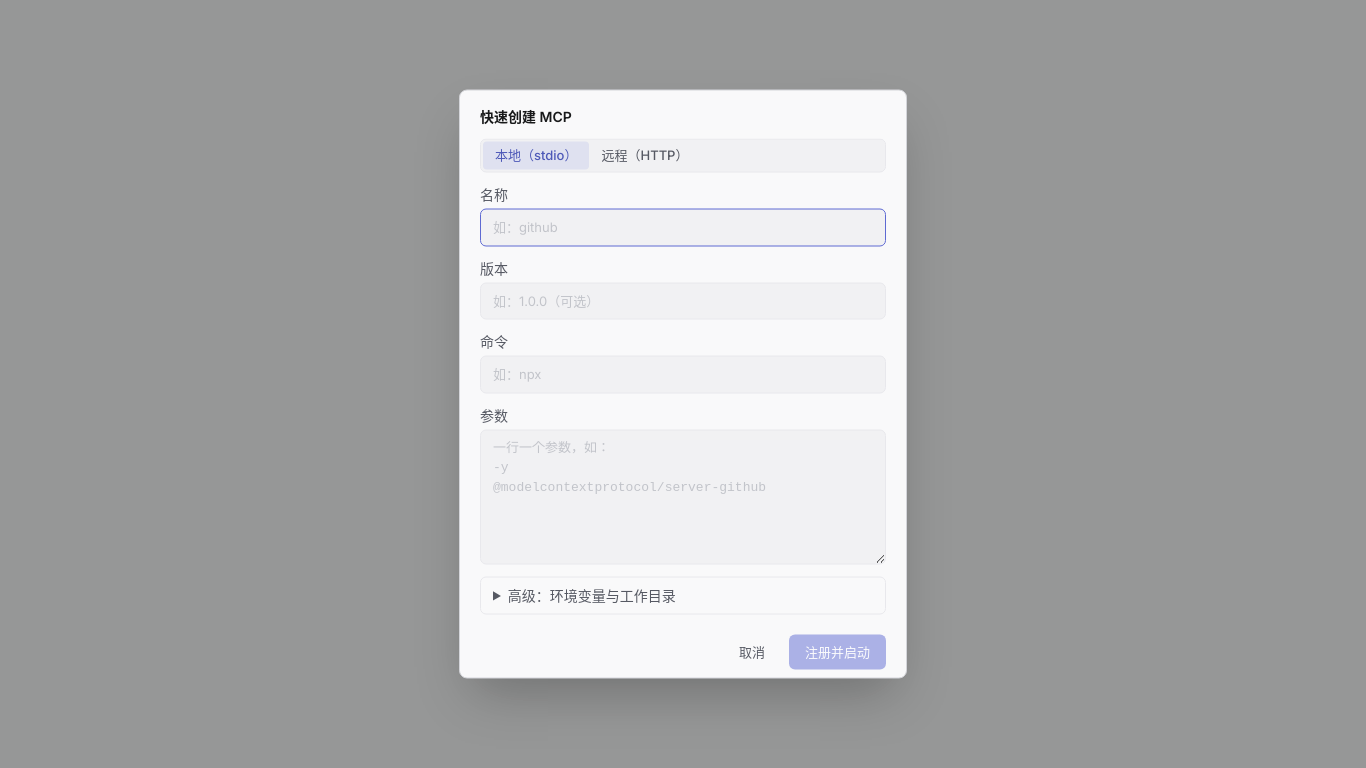
Test: RegisterMcpDialog — 快速创建 MCP：传输二态 › 远程态 http URL → 明文告警但不阻断提交（自建/本地测试）
Click the radio button labelled "远程（HTTP）". click: (645, 156)
box: [590, 142, 700, 170]
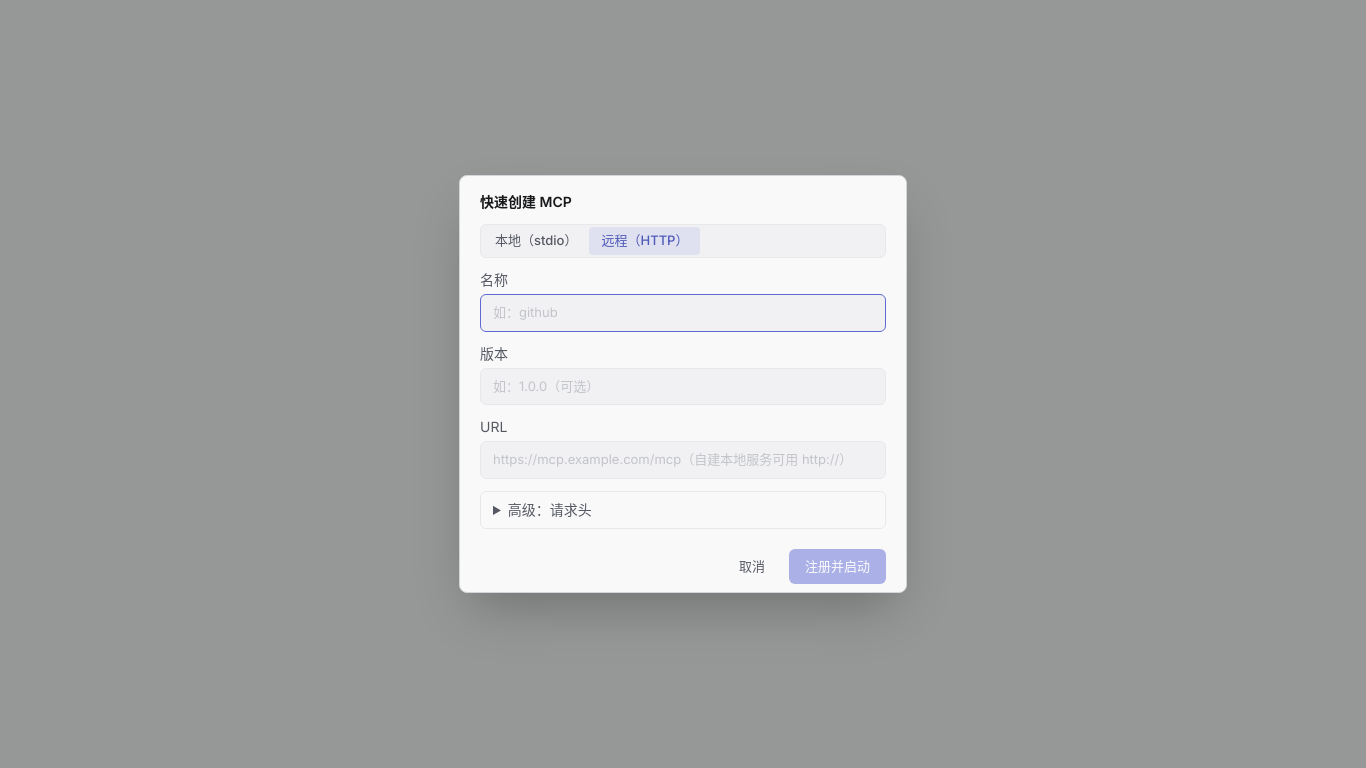
Type "m" into the field labelled "名称". click: (683, 313)
box: [480, 294, 886, 332]
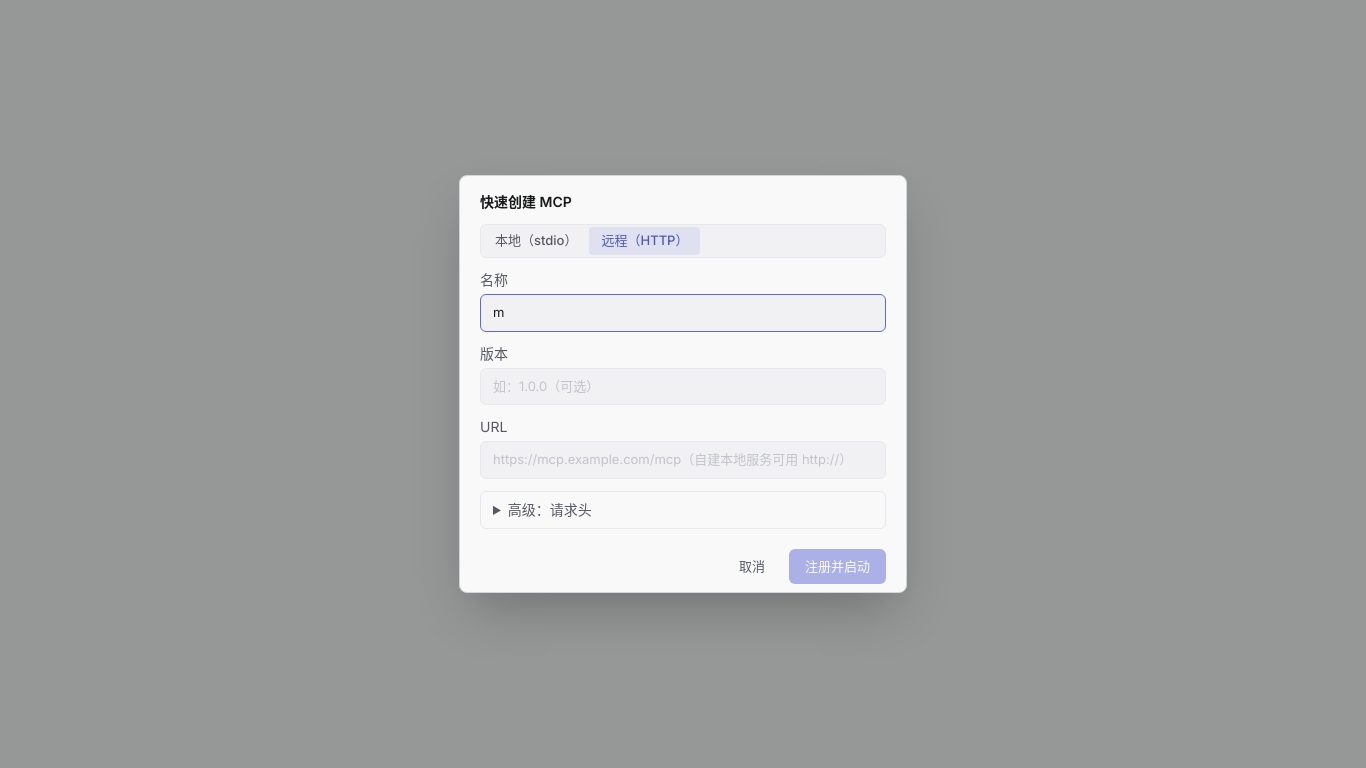
Type "http://localhost:8931/mcp" into the field labelled "URL". click: (683, 460)
box: [480, 441, 886, 478]
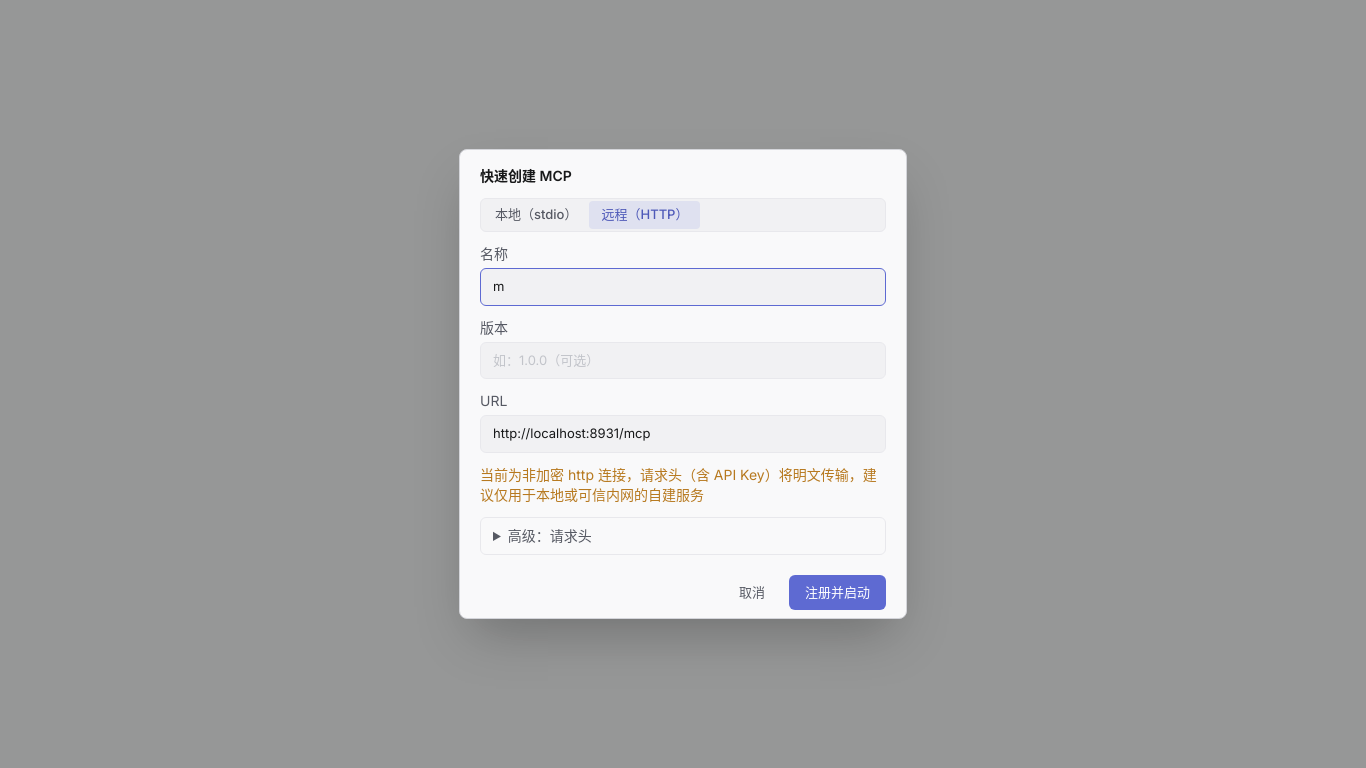
Now the button "注册并启动" is enabled, box [789, 574, 886, 610]
Now the text "当前为非加密 http 连接，请求头（含 API Key）将明文传输，建议仅用于本地或可信内网的自建服务" is shown, box [480, 464, 886, 504]
